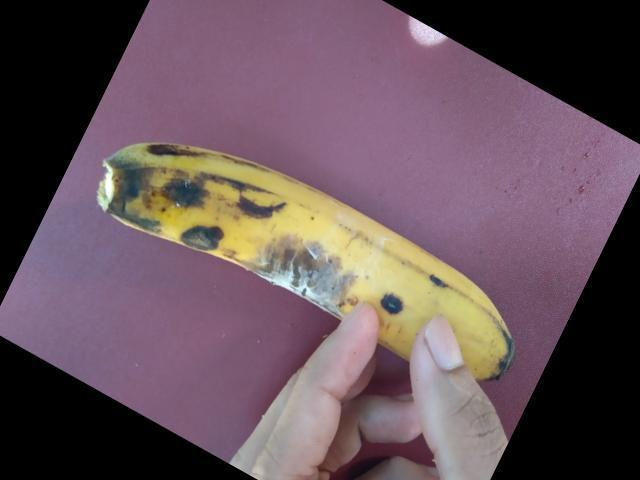overripe: (84, 110, 508, 375)
rotten: (226, 222, 377, 340)
